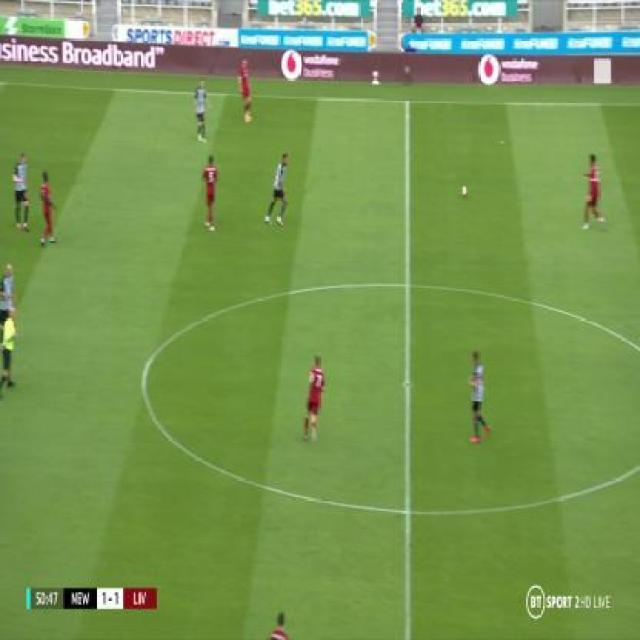ball: (460, 183, 468, 196)
player: (465, 348, 490, 448), (302, 353, 328, 447), (579, 152, 607, 237), (263, 149, 291, 231), (11, 148, 33, 234), (37, 166, 59, 252), (200, 152, 220, 234), (1, 309, 20, 394), (192, 78, 211, 146), (236, 56, 255, 124), (0, 260, 18, 319), (270, 607, 289, 640)
